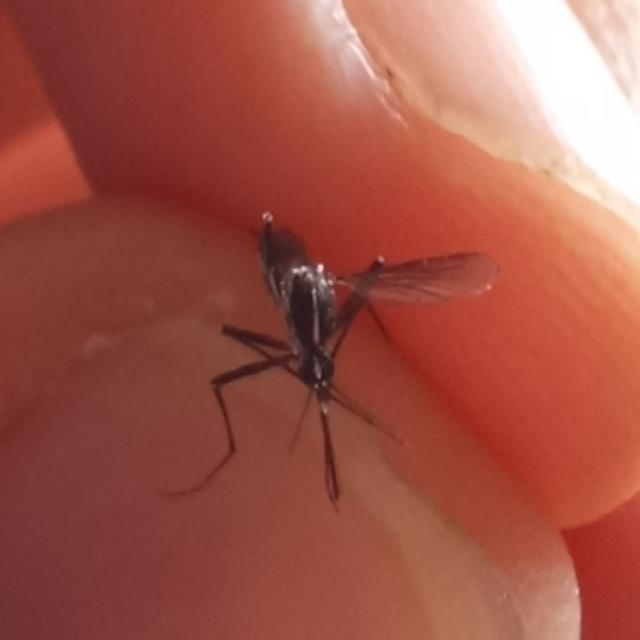albopictus: (179, 187, 475, 510)
